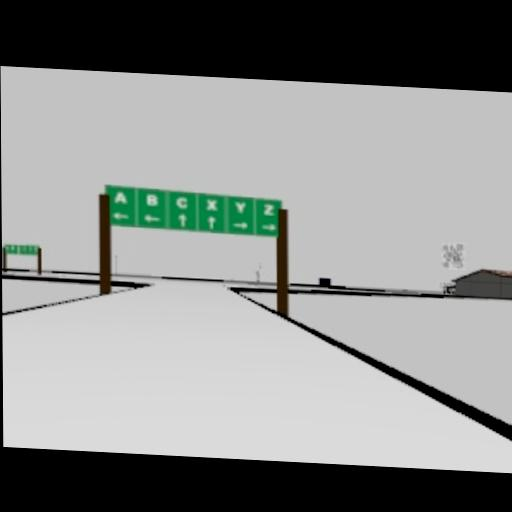A: (113, 189, 127, 204)
B: (145, 192, 157, 205)
C: (176, 195, 188, 208)
Left: (142, 213, 161, 223), (112, 210, 129, 220)
Right: (261, 221, 276, 232), (232, 219, 248, 229)
Straight: (177, 211, 188, 226), (207, 215, 217, 229)
X: (205, 198, 217, 210)
Y: (235, 200, 245, 213)
Z: (262, 203, 274, 215)
